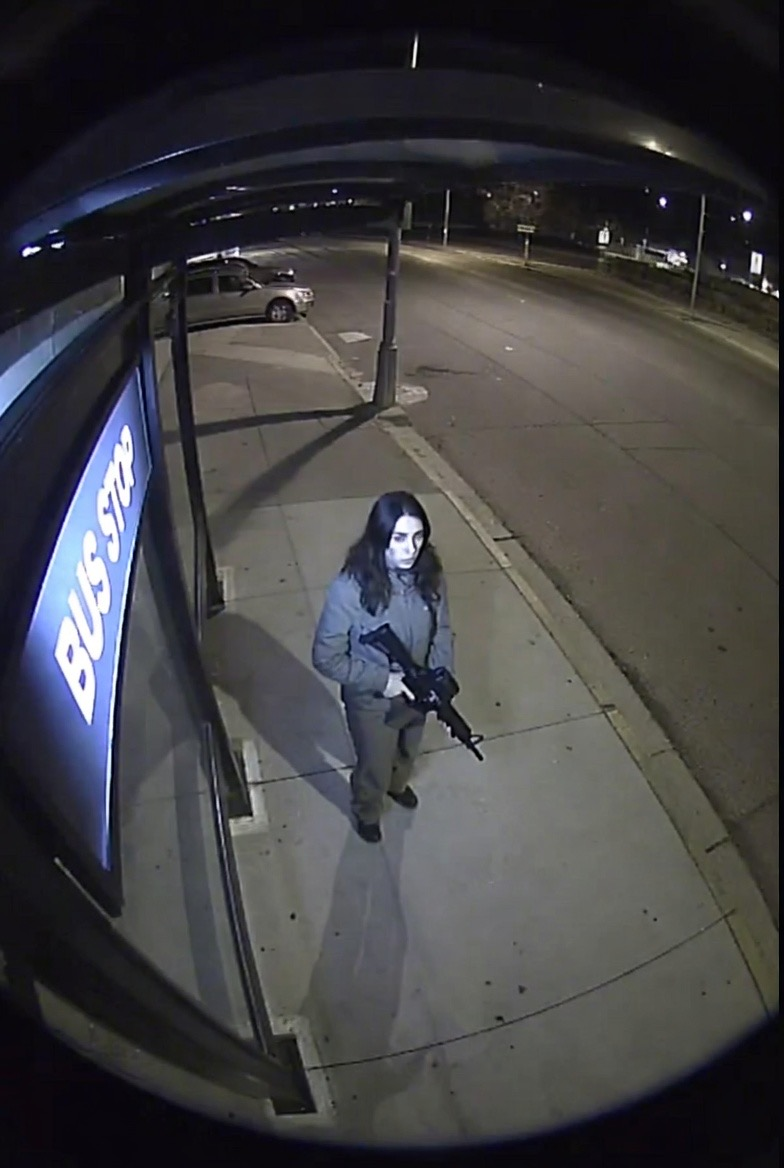person: (311, 489, 458, 843)
weapon: (358, 622, 485, 761)
